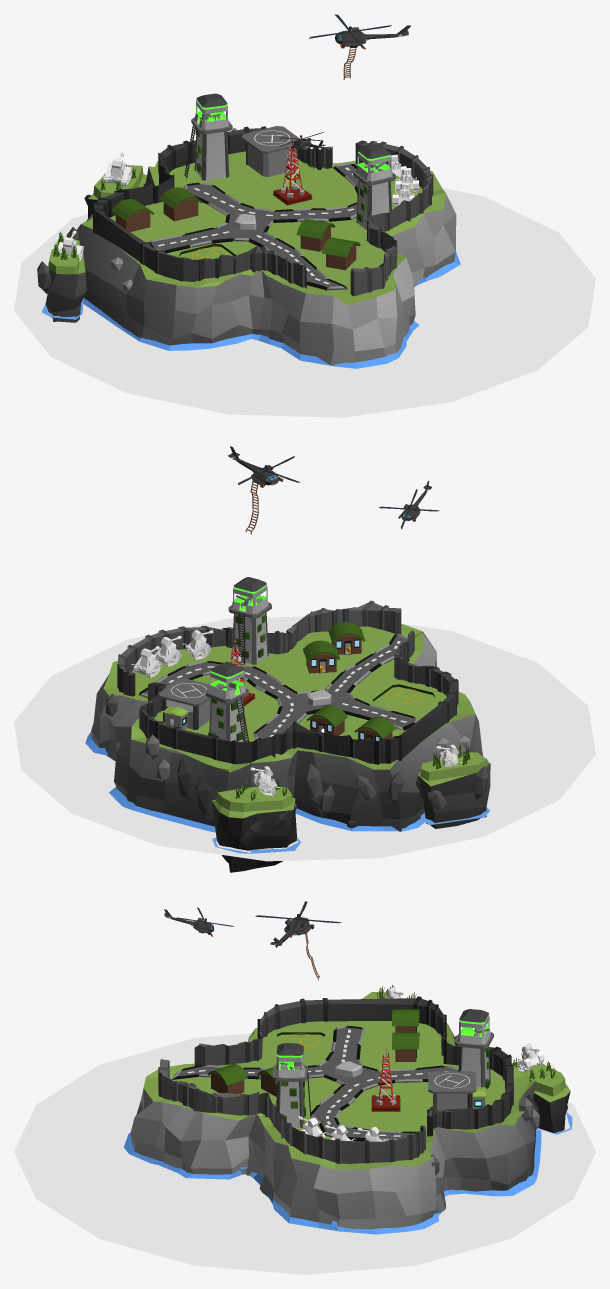
The model's file is military-base.glb.
3 views of the same model, one above another, from view 1: azimuth 30°, elevation 25°; view 2: azimuth 150°, elevation 25°; view 3: azimuth 270°, elevation 25° (orthographic).
Visible parts, largest first — view 1: World9-Miitary, Plane; view 2: World9-Miitary, Plane; view 3: World9-Miitary, Plane.
Boxes of the visible parts, x1,y1,x2,y2 form: World9-Miitary: [37, 14, 460, 368]; Plane: [14, 187, 595, 417]; World9-Miitary: [85, 446, 490, 872]; Plane: [14, 616, 595, 861]; World9-Miitary: [124, 901, 572, 1234]; Plane: [14, 1033, 595, 1274].
Bounding box in the file's own units: 24.18 × 12.94 × 24.18.
4 materials, 2 textured.
